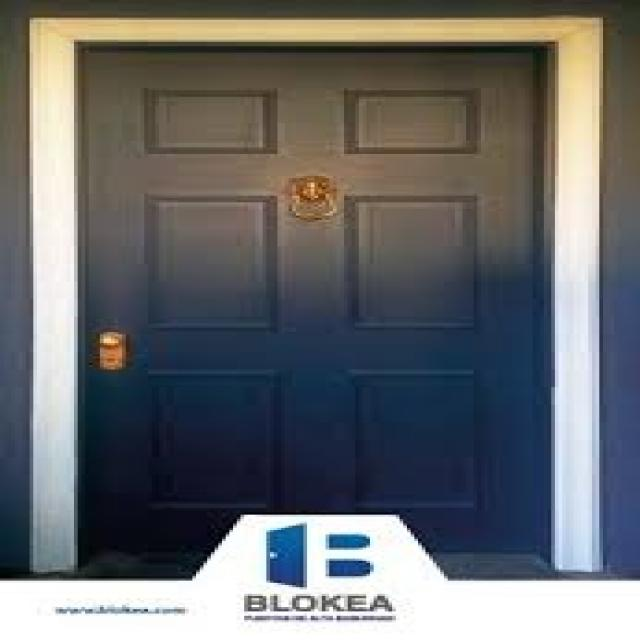door: (76, 42, 553, 567)
